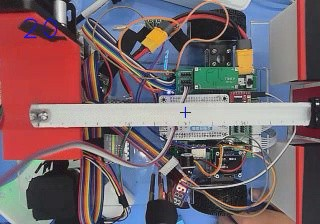ironball: (36, 109, 47, 121)
